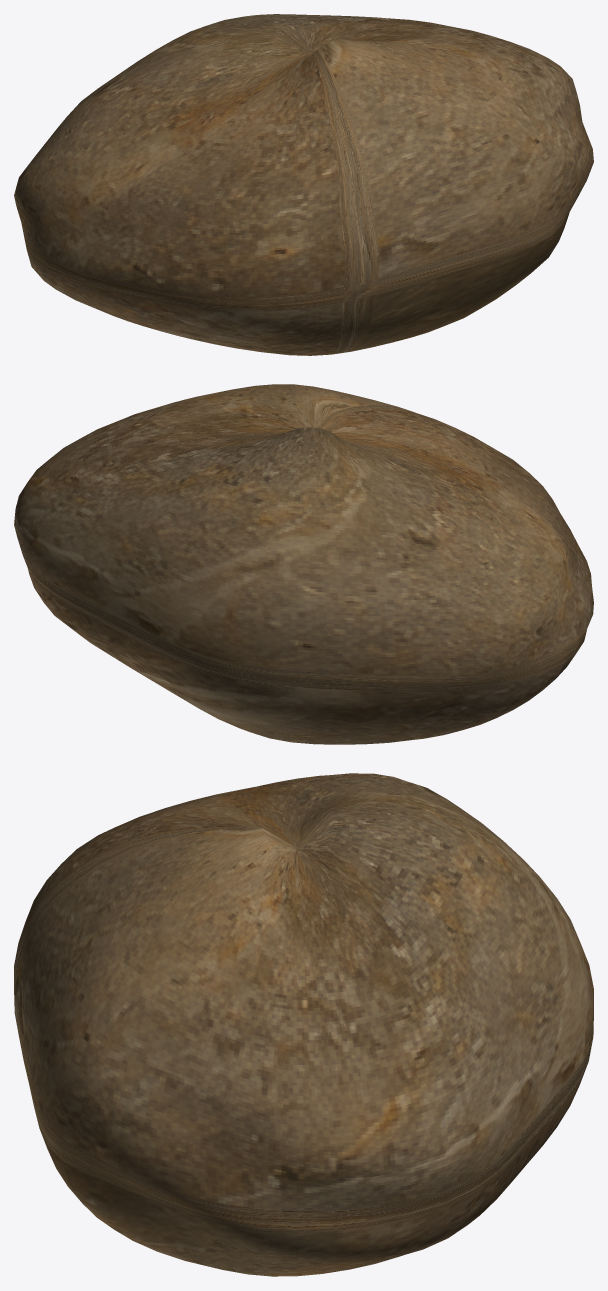
Rendered from variant-05.glb.
3 views of the same model, one above another, from view 1: azimuth 30°, elevation 25°; view 2: azimuth 150°, elevation 25°; view 3: azimuth 270°, elevation 25° (orthographic). The views are drawn at different scales.
Visible parts, largest first — view 1: RiverPebble_05; view 2: RiverPebble_05; view 3: RiverPebble_05.
Part boxes in pixels (<box>): RiverPebble_05: <box>14,14,593,355</box>; RiverPebble_05: <box>14,384,593,744</box>; RiverPebble_05: <box>14,773,593,1276</box>.
Size of the model in its own units: 0.36 by 0.1865 by 0.2521.
1 material, 1 textured.
